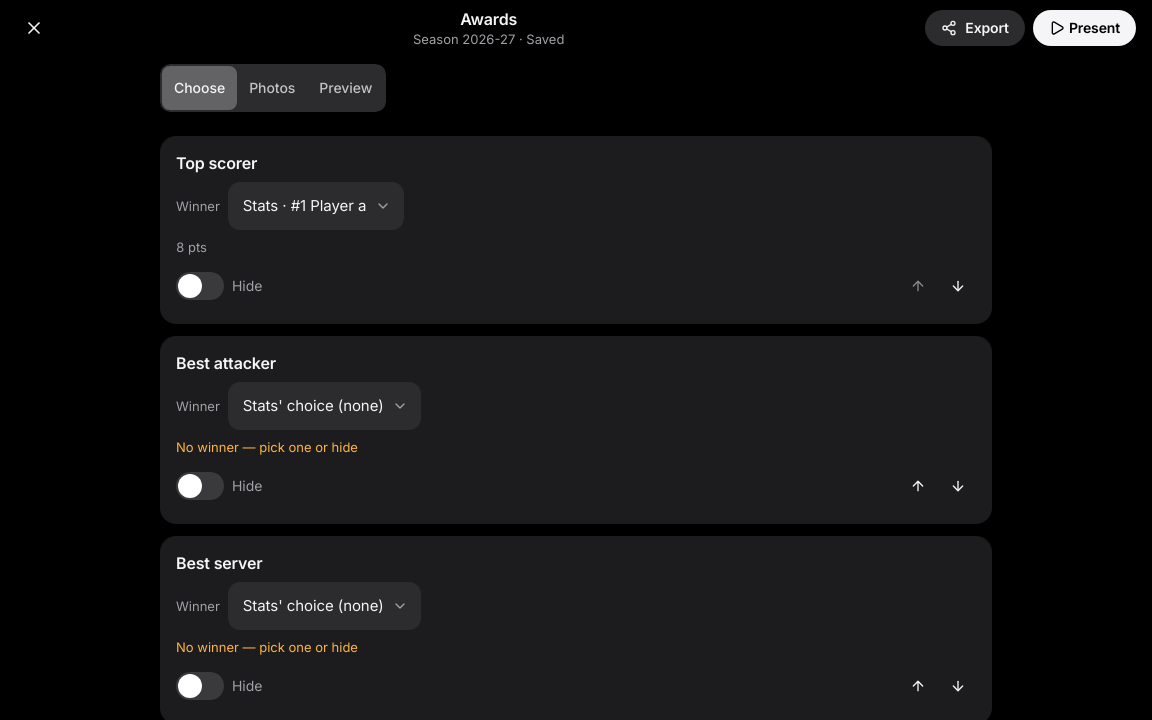
it: AwardsPage › leaving the page stops a running recording
The width and height of the screenshot is (1152, 720).
Expected: the element "Best attacker" is shown, [160,336,992,524]
Click the button "Export" at (975, 28), box [925,10,1025,46]
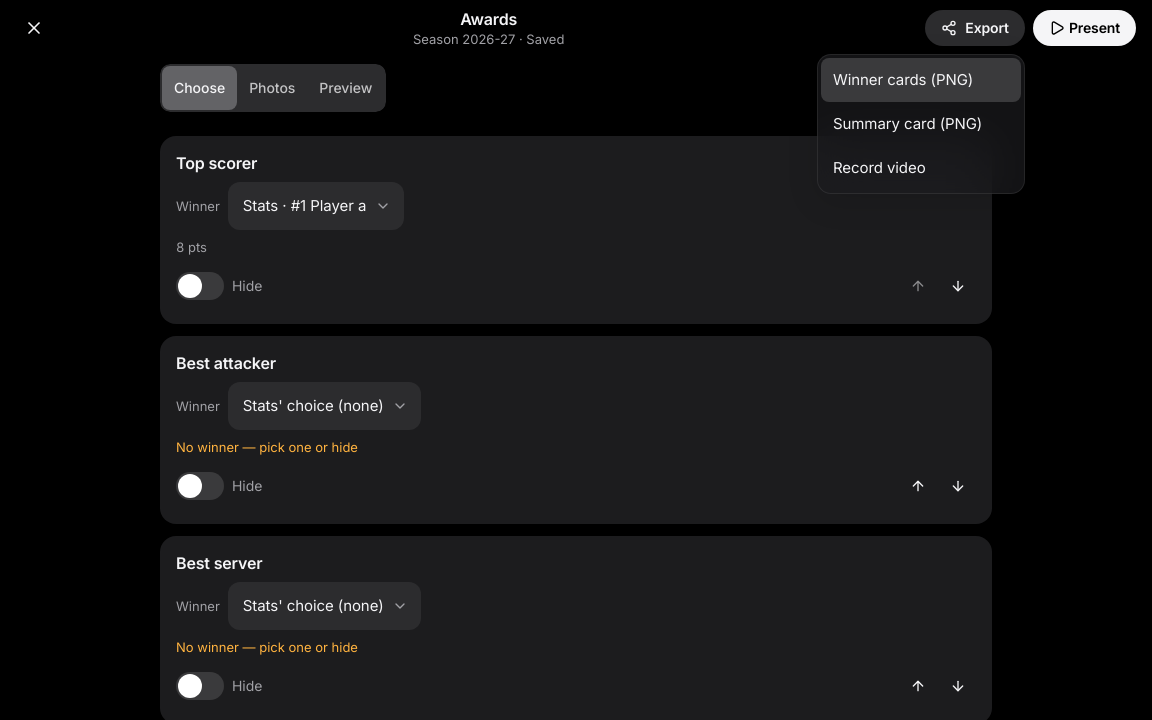
Click the menu item "Record video" at (921, 168), box [821,146,1021,190]
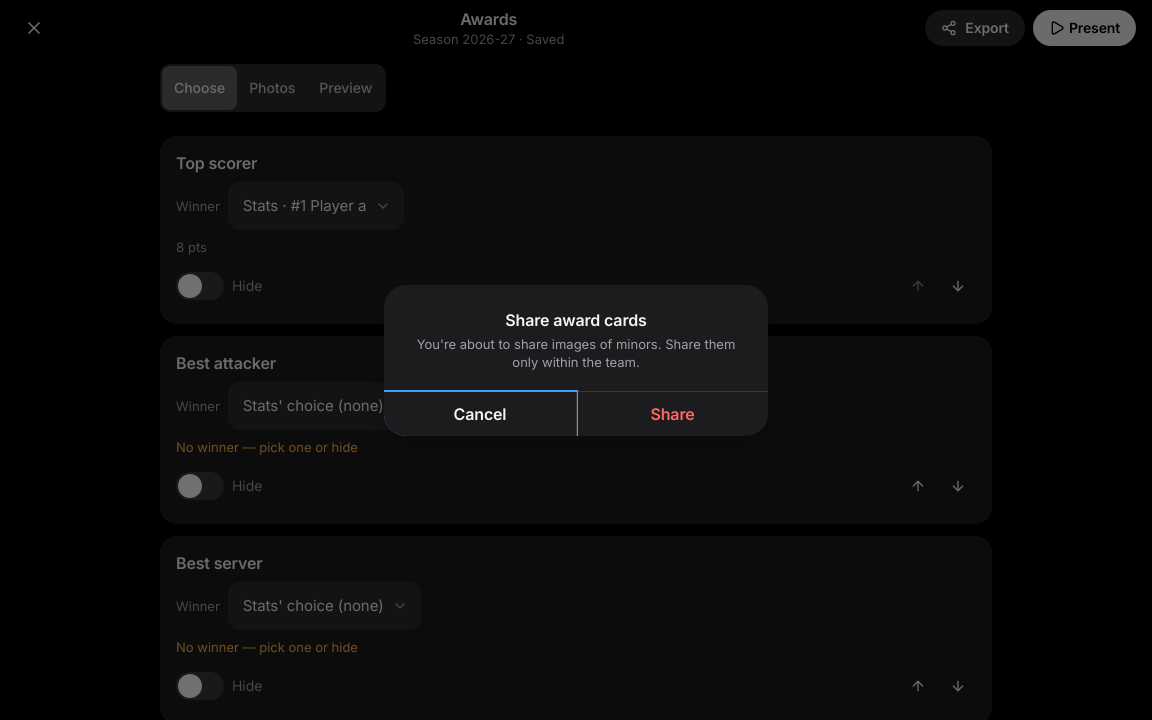
Click the button "Share" at (672, 414), box [576,392,768,436]
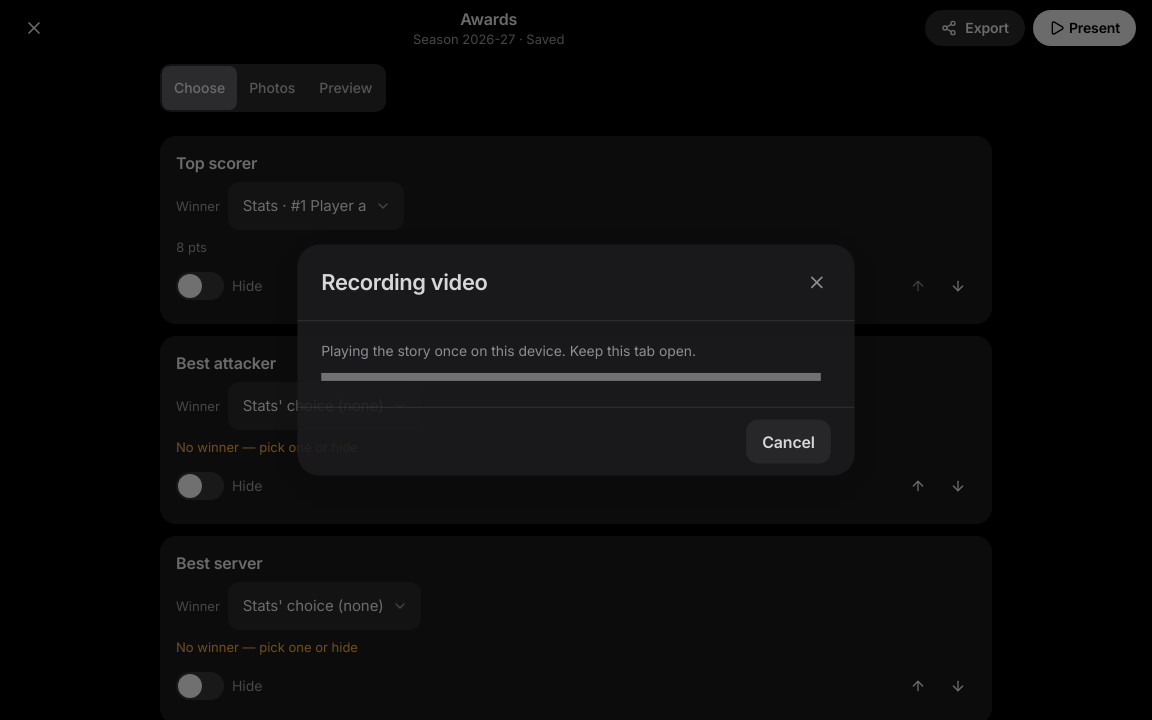
Result: the heading "Recording video" is shown at [320,268,487,296]
